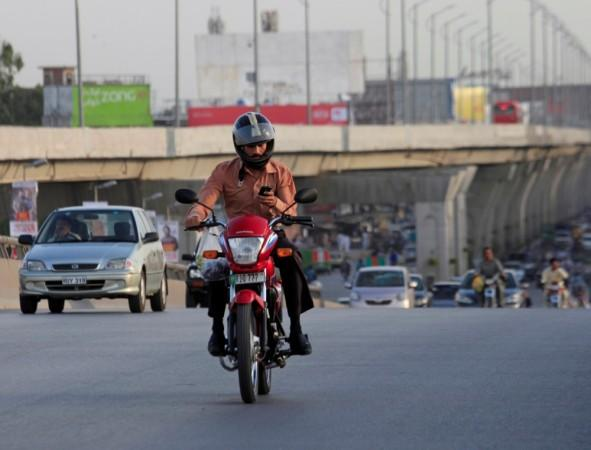dieu khien xe may: (204, 113, 295, 309)
su dung dien thoai: (230, 113, 278, 210)
